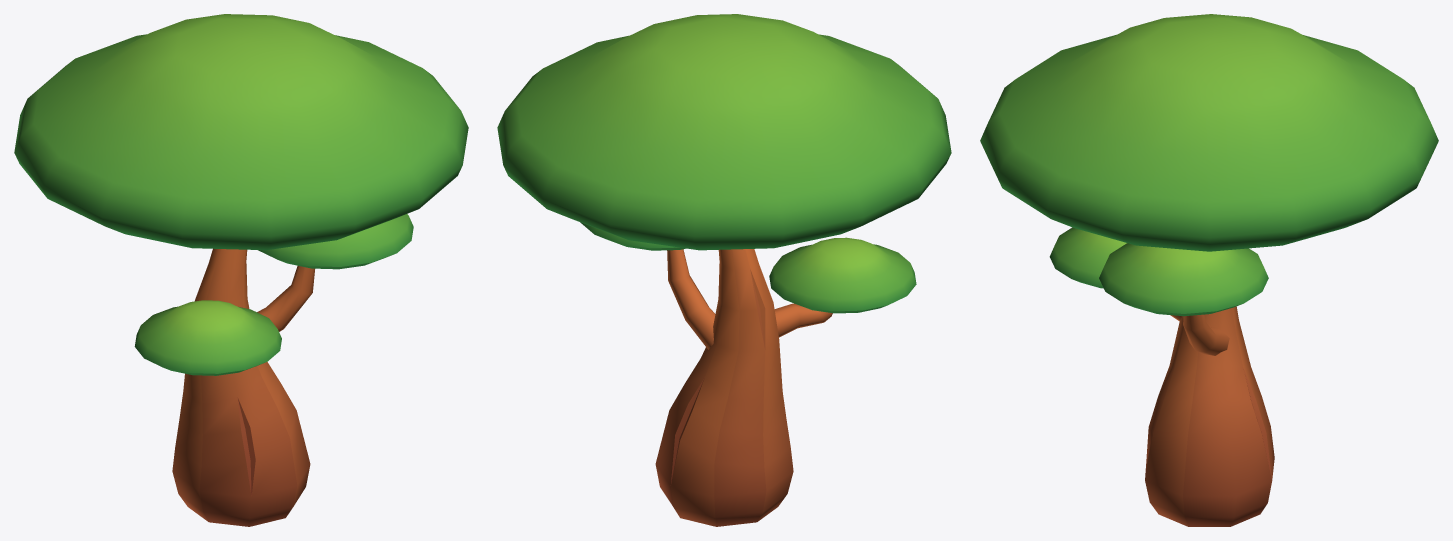
File: kk-tree-pine.glb
3 renders of one model, left to right at view 1: azimuth 30°, elevation 25°; view 2: azimuth 150°, elevation 25°; view 3: azimuth 270°, elevation 25°, orthographic.
Parts seen in each view (by area): view 1: Tree_3_A_Color1; view 2: Tree_3_A_Color1; view 3: Tree_3_A_Color1.
Part boxes in pixels (box(x1,y1,x2,y2)): Tree_3_A_Color1: box(14, 14, 468, 526); Tree_3_A_Color1: box(497, 14, 951, 526); Tree_3_A_Color1: box(980, 14, 1438, 526).
Bounding box in the file's own units: 3.09 × 3.51 × 3.09.
1 material, 1 textured.
